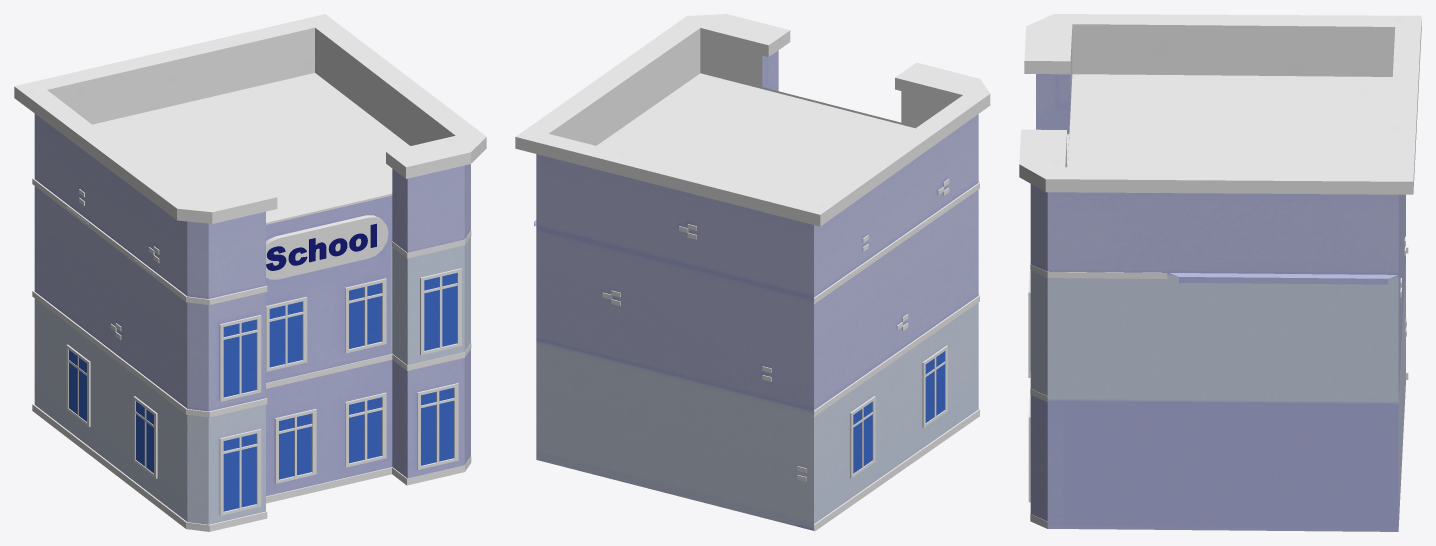
Rendered from school.gltf.
3 views of the same model, side by side, from view 1: azimuth 30°, elevation 25°; view 2: azimuth 150°, elevation 25°; view 3: azimuth 270°, elevation 25° (orthographic). The views are drawn at different scales.
Parts seen in each view (by area): view 1: Object_3; view 2: Object_3; view 3: Object_3.
Boxes of the visible parts, x1,y1,x2,y2 form: Object_3: (14, 14, 486, 531); Object_3: (515, 14, 990, 531); Object_3: (1019, 14, 1421, 531).
Bounding box in the file's own units: 21.28 × 21.15 × 21.56.
1 material, 1 textured.
